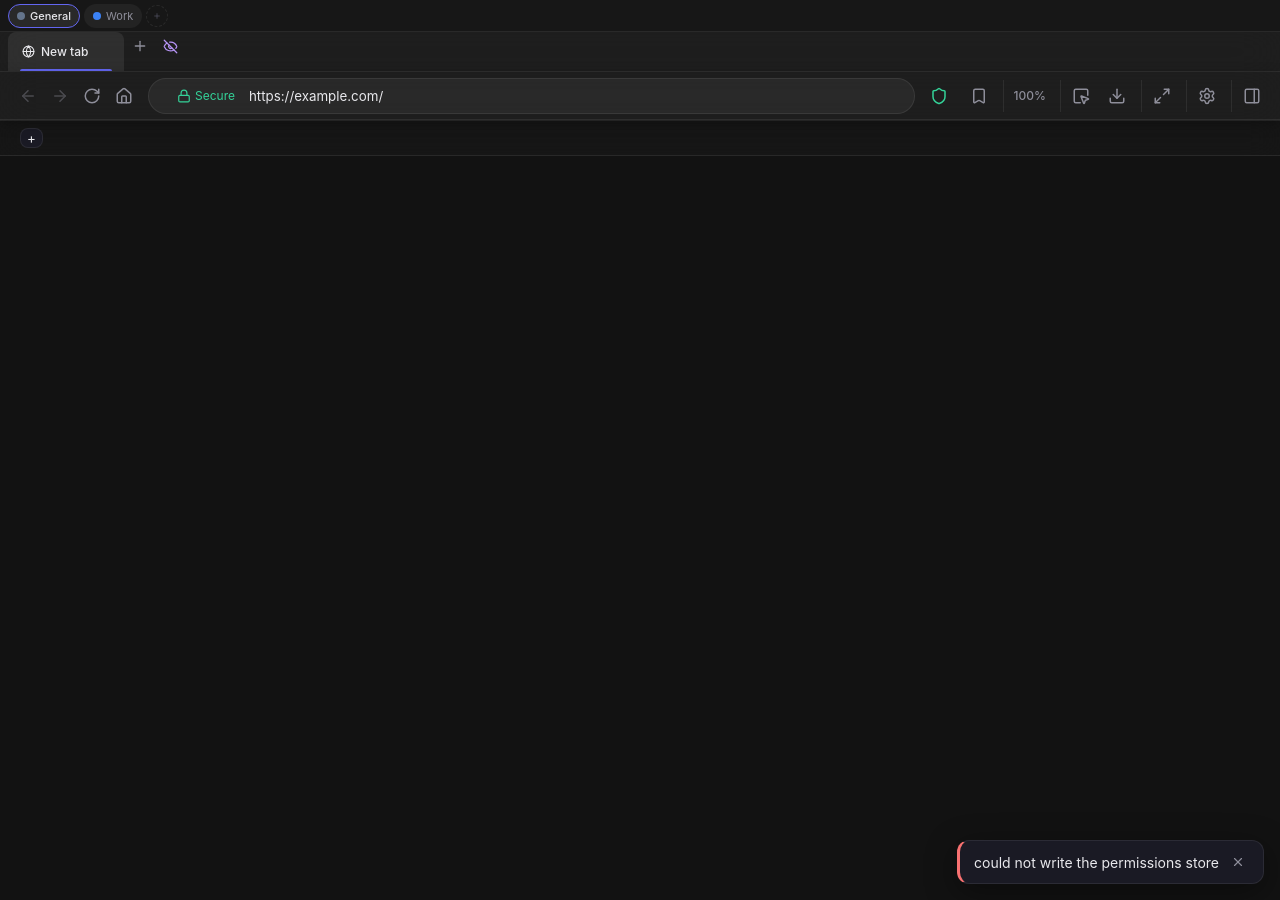
Test: App › clicking the toolbar toggle opens the sidebar overlay
Click the button named "toggle sidebar" at (1252, 96), box left=1236, top=80, right=1268, bottom=112
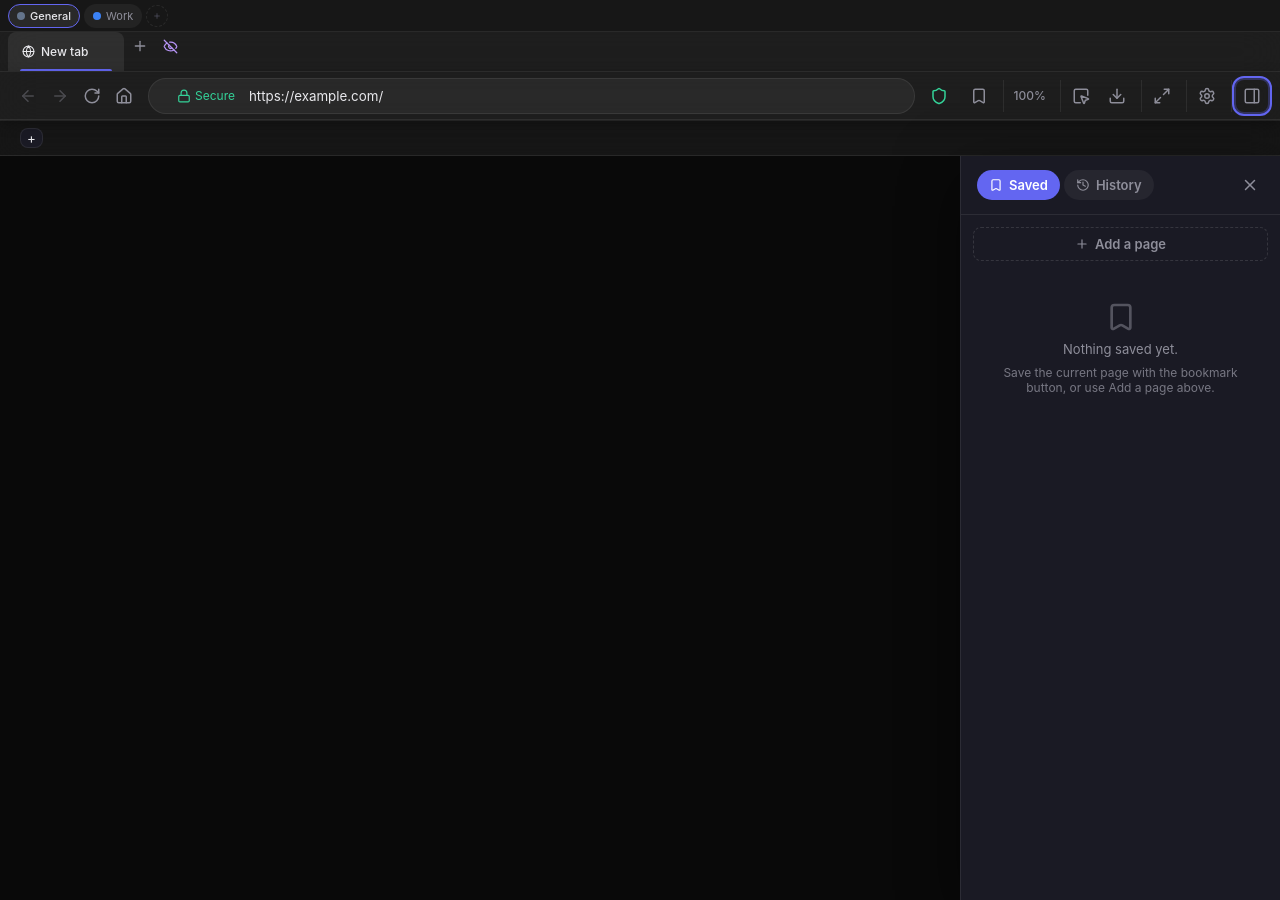
expect the element named "sidebar" is shown: met, box left=960, top=156, right=1279, bottom=899
